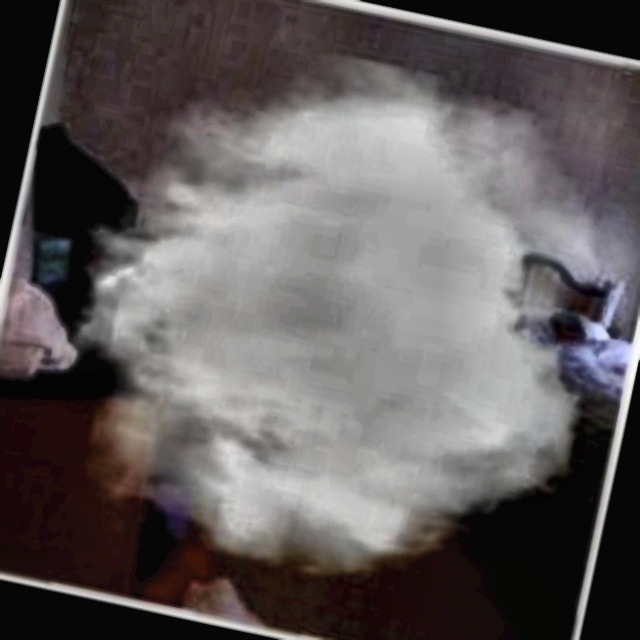smoke: (109, 84, 586, 595)
